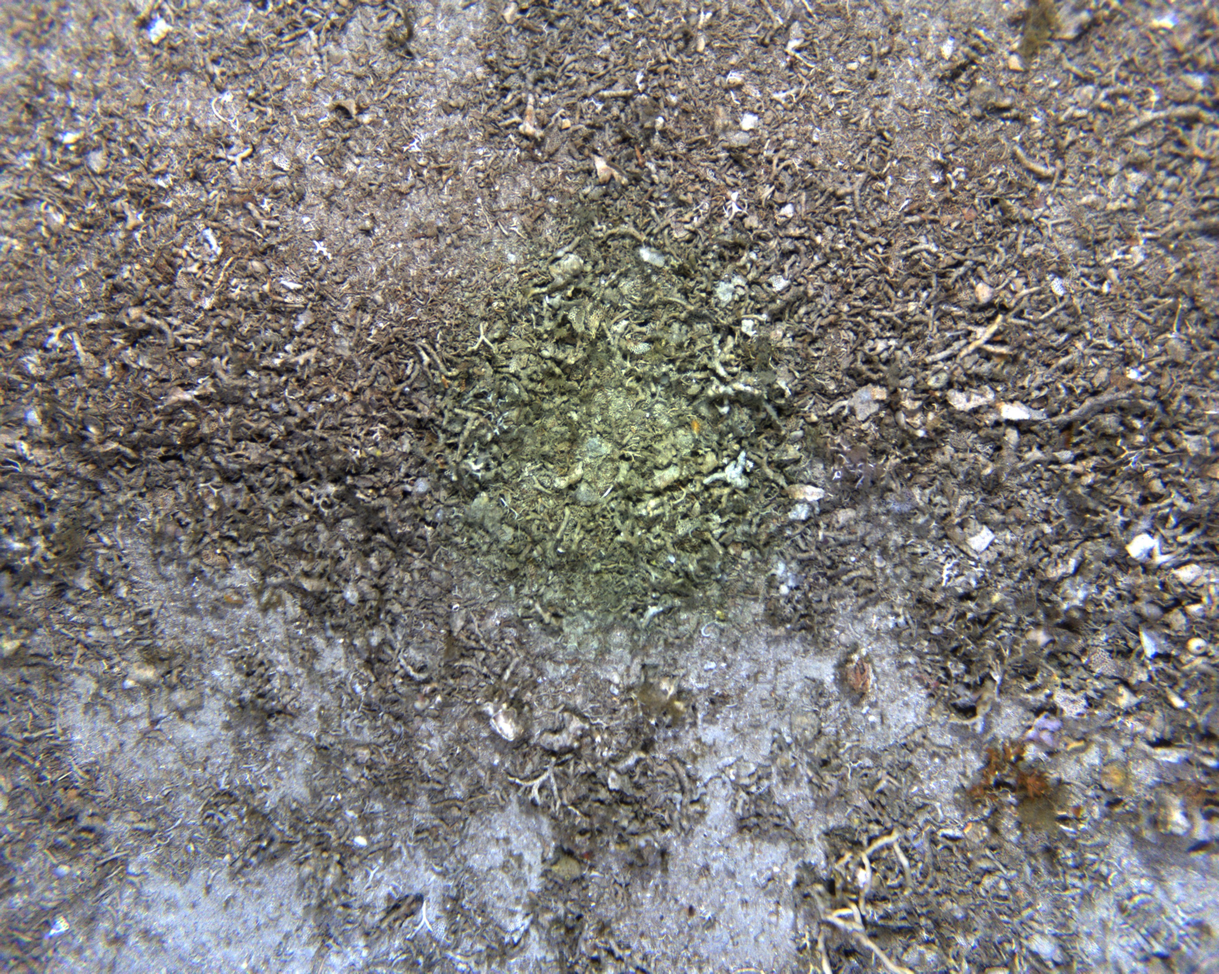Brachionichthyidae: (363, 892, 427, 942)
